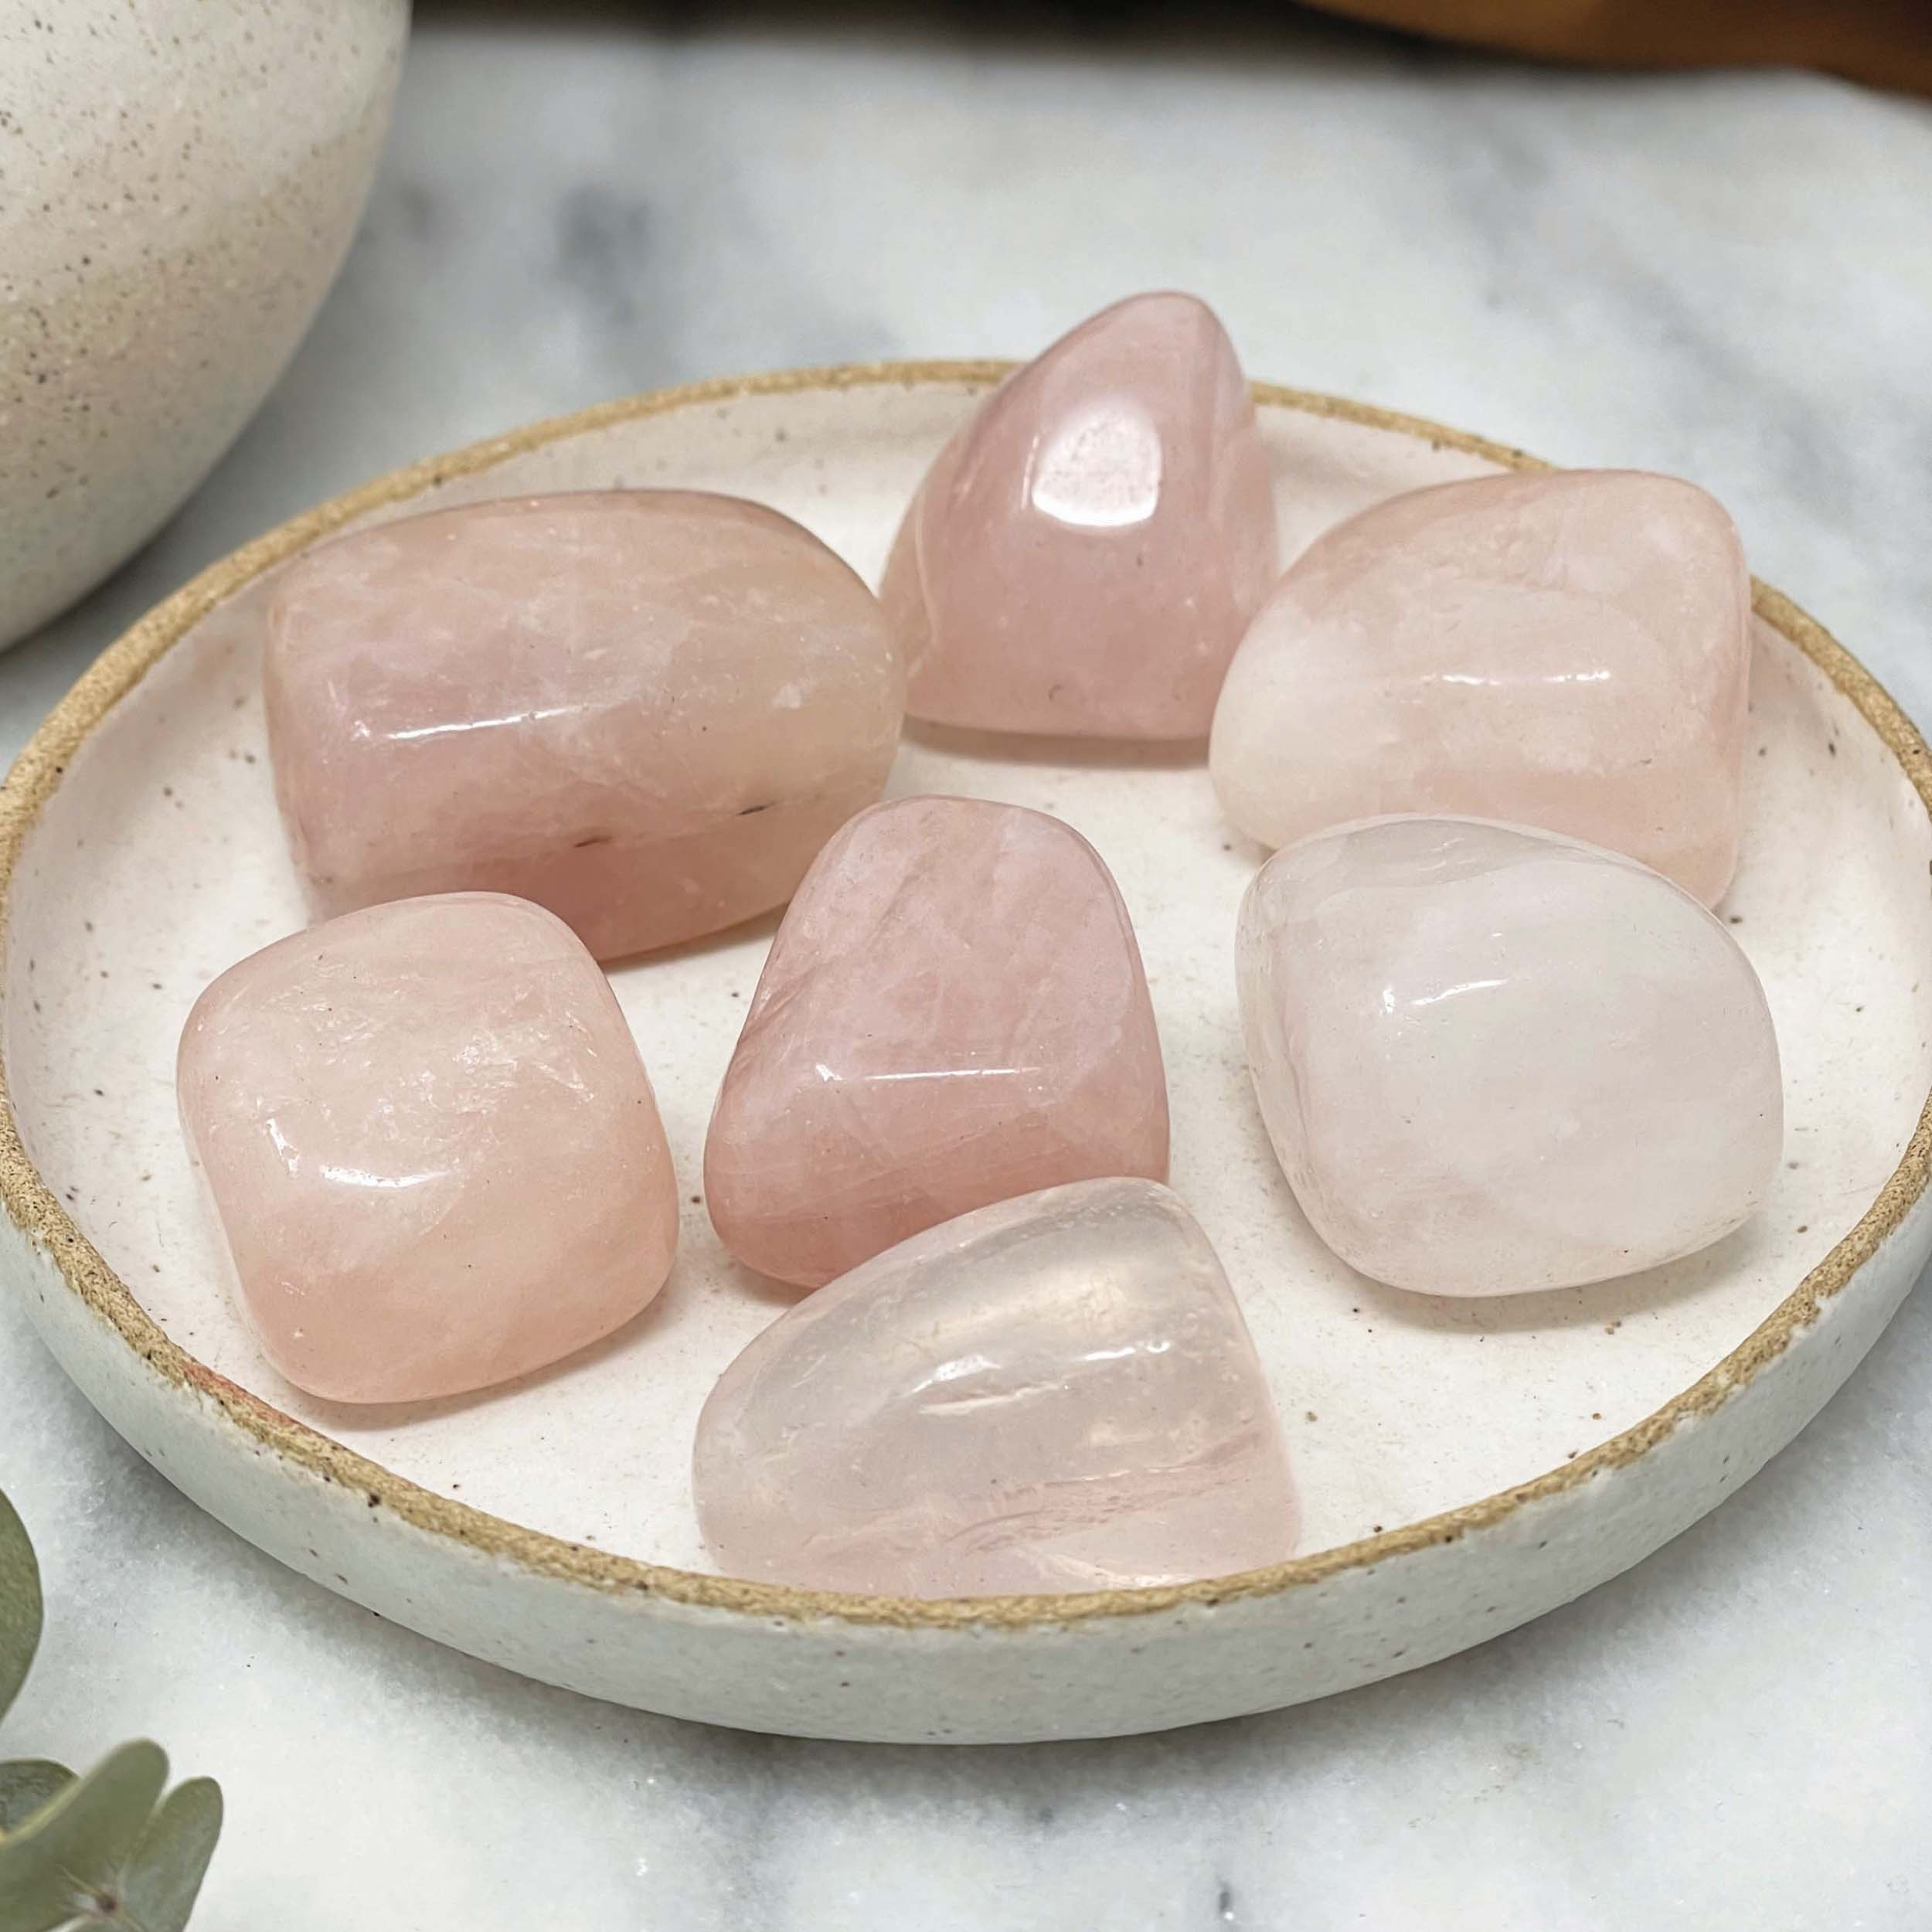Rose_Quartz: (120, 895, 676, 1430), (686, 1162, 1322, 1598), (833, 280, 1345, 764)
